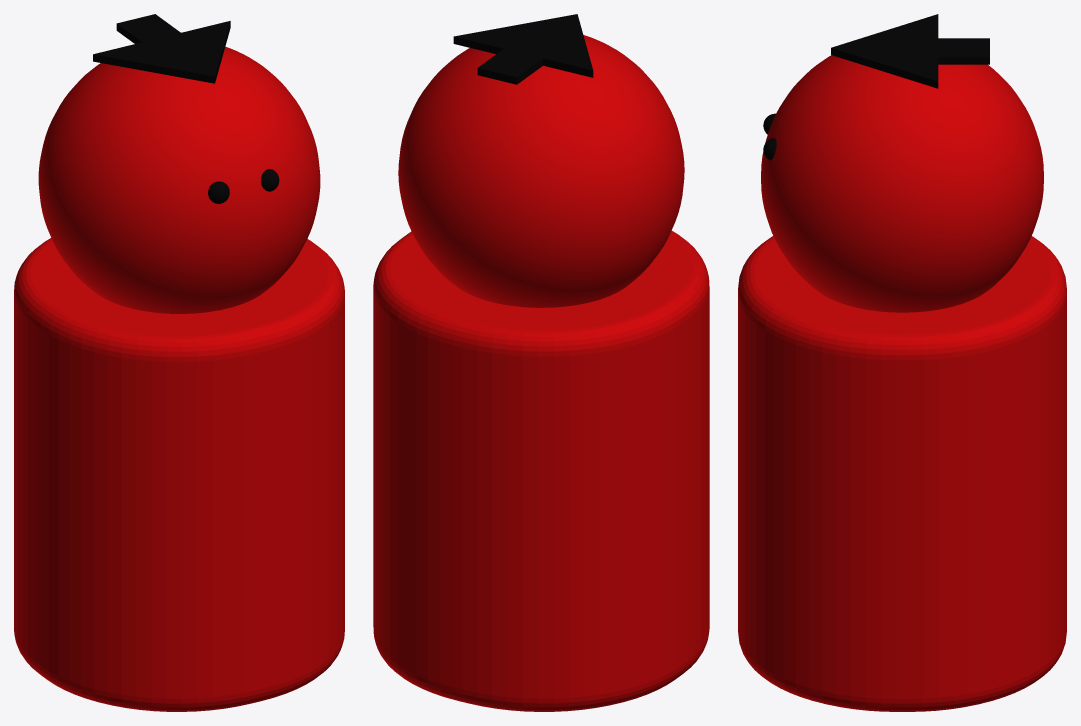
3 renders of one model, left to right at view 1: azimuth 30°, elevation 25°; view 2: azimuth 150°, elevation 25°; view 3: azimuth 270°, elevation 25°, orthographic.
Visible parts, largest first — view 1: Cube.004_Cube.014_Material.002, Cube.004_Cube.014_SVGMat; view 2: Cube.004_Cube.014_Material.002, Cube.004_Cube.014_SVGMat; view 3: Cube.004_Cube.014_Material.002, Cube.004_Cube.014_SVGMat.
Part boxes in pixels (x1,y1,x2,y2): Cube.004_Cube.014_Material.002: (14,46,344,711); Cube.004_Cube.014_SVGMat: (93,14,279,203); Cube.004_Cube.014_Material.002: (373,35,709,711); Cube.004_Cube.014_SVGMat: (453,14,593,84); Cube.004_Cube.014_Material.002: (738,55,1066,711); Cube.004_Cube.014_SVGMat: (763,14,989,160).
Size of the model in its own units: 0.2392 by 0.4819 by 0.2392.
